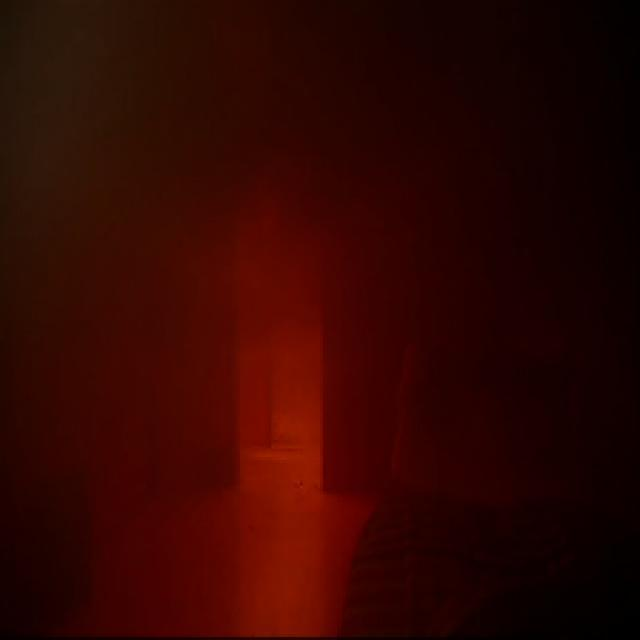Smoke: (63, 17, 506, 323)
